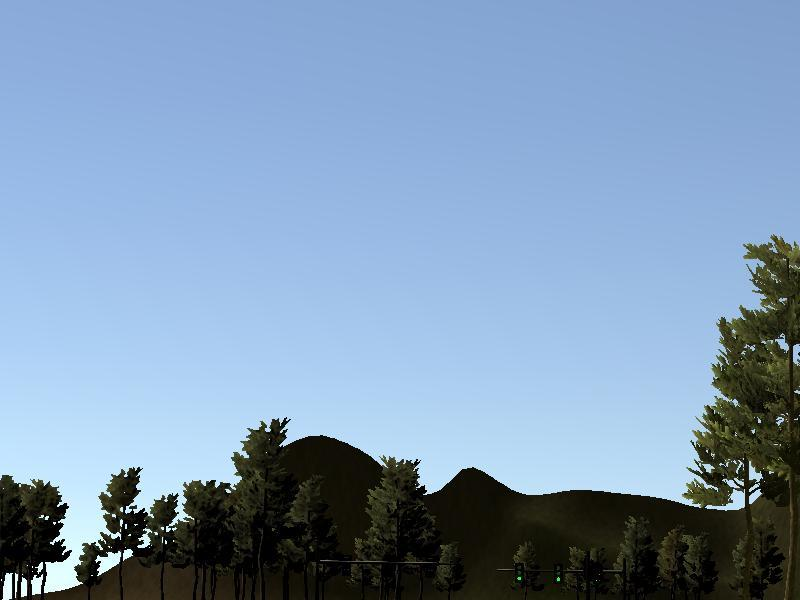Green: (514, 563, 523, 585), (553, 563, 562, 585)
